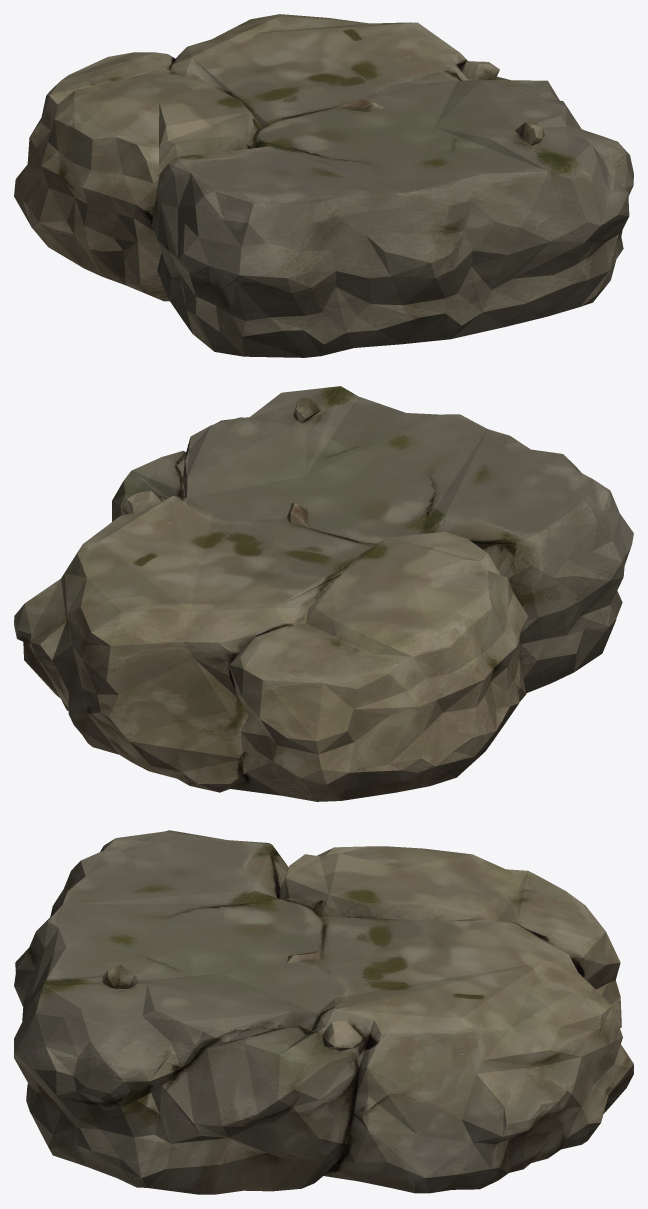
The model's file is bloc_rocheux_bloc.glb.
3 views of the same model, one above another, from view 1: azimuth 30°, elevation 25°; view 2: azimuth 150°, elevation 25°; view 3: azimuth 270°, elevation 25° (orthographic). The views are drawn at different scales.
Parts seen in each view (by area): view 1: bloc_rocheux_bloc; view 2: bloc_rocheux_bloc; view 3: bloc_rocheux_bloc.
Part boxes in pixels (bbox=[...]): bloc_rocheux_bloc: bbox=[14, 14, 633, 357]; bloc_rocheux_bloc: bbox=[14, 386, 633, 801]; bloc_rocheux_bloc: bbox=[14, 830, 633, 1194].
Size of the model in its own units: 1.71 by 0.6296 by 1.95.
1 material, 1 textured.
